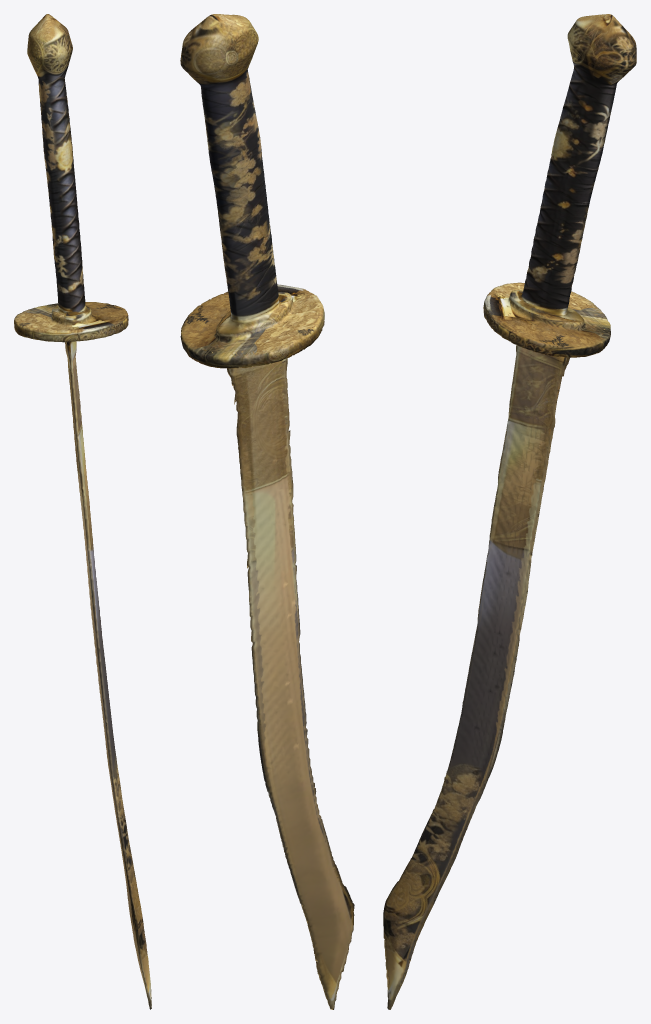
Rendered from AI_CeremonialKatana.fbx.
The picture shows the model from 3 angles, left to right: view 1: azimuth 30°, elevation 25°; view 2: azimuth 150°, elevation 25°; view 3: azimuth 270°, elevation 25°; orthographic projection. The views are drawn at different scales.
Visible parts, largest first — view 1: Mesh1; view 2: Mesh1; view 3: Mesh1.
Part boxes in pixels (box(x1,y1,x2,y2)): Mesh1: box(14, 14, 151, 1009); Mesh1: box(180, 14, 354, 1009); Mesh1: box(383, 14, 636, 1009).
Bounding box in the file's own units: 23.38 × 200 × 46.13.
1 material, 1 textured.
